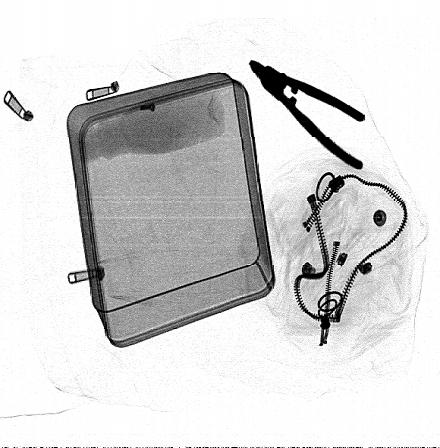Pliers: (248, 58, 369, 170)
